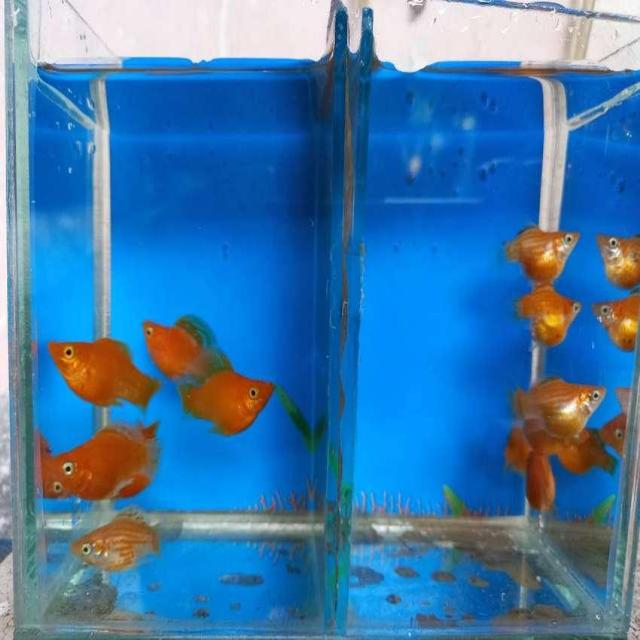PlatyFish: (172, 358, 282, 453), (42, 323, 158, 411), (45, 424, 162, 506), (64, 506, 172, 577), (508, 374, 610, 446), (492, 220, 582, 291), (503, 288, 582, 352)
